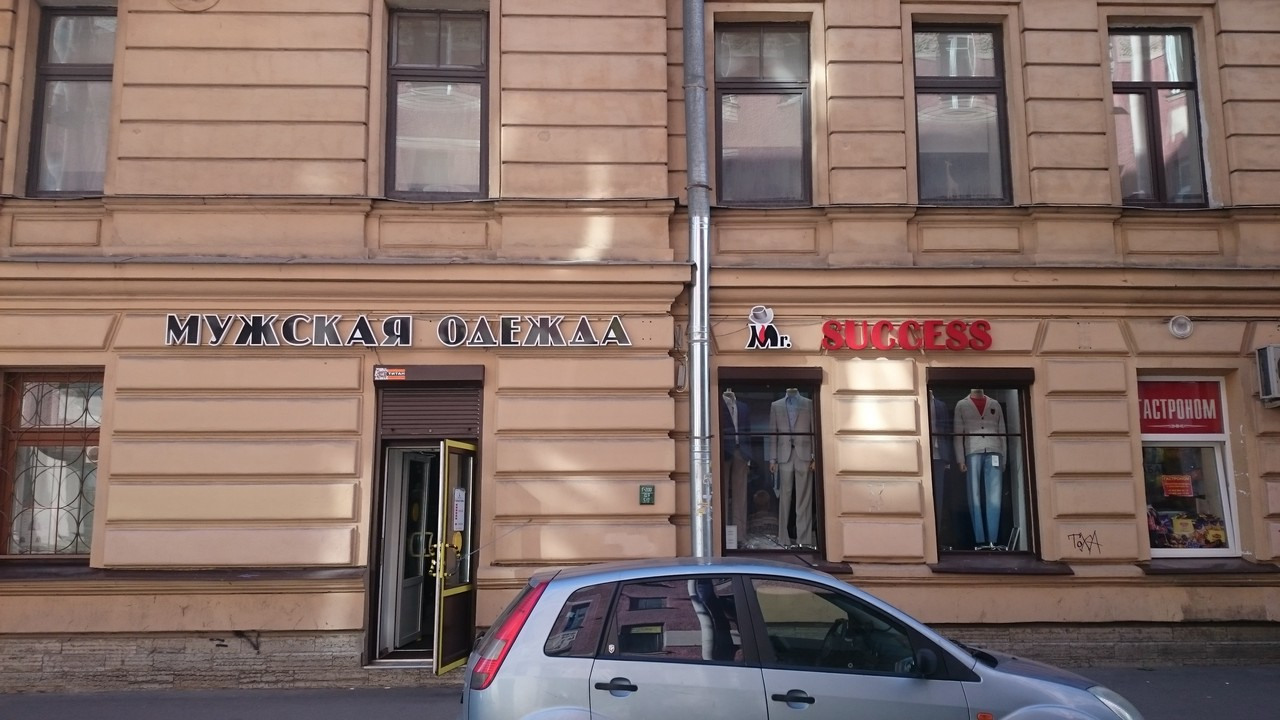door: (373, 443, 475, 669)
signboard: (167, 315, 633, 344), (747, 307, 995, 352)
window: (381, 11, 492, 201), (1, 369, 103, 570), (1136, 369, 1239, 561), (910, 22, 1016, 205), (1109, 21, 1212, 209), (713, 22, 817, 207), (721, 375, 822, 562), (21, 1, 118, 195), (937, 376, 1031, 562)
